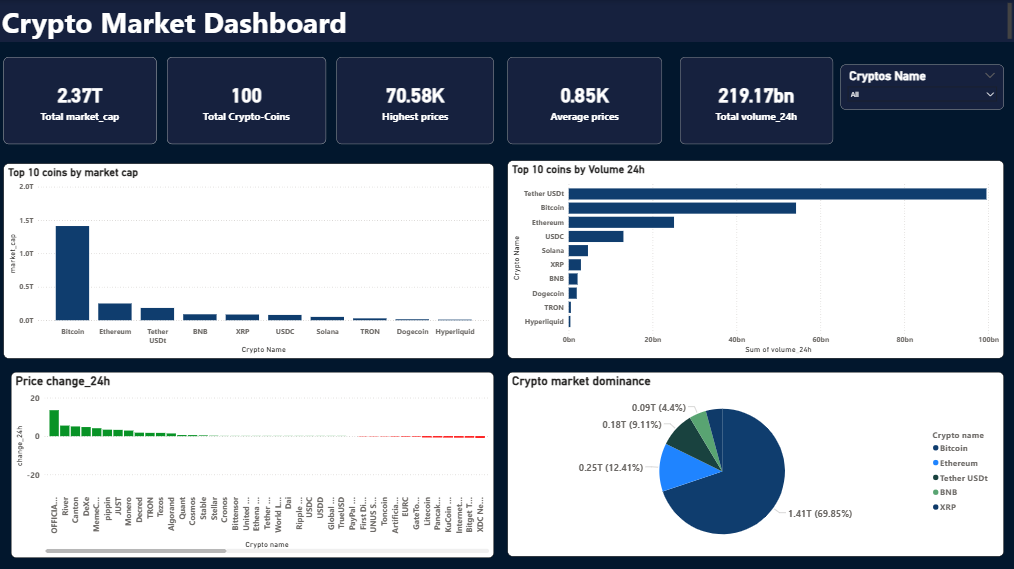

The dashboard page shown, as its layout file describes it:
{"tool":"powerbi","page":{"name":"Page 1","canvas":[1920,1080],"ordinal":0},"visuals":[{"type":"card","fields":{"Values":["Sum(crypto crypto_prices.market_cap)"]},"box":[8.5,107.7,289.1,164.4],"z":0},{"type":"card","fields":{"Values":["crypto crypto_prices.Total Crypto-Coins"]},"box":[317.5,107.7,300.5,164.4],"z":1000},{"type":"card","fields":{"Values":["Max(crypto crypto_prices.price)"]},"box":[637.8,107.7,297.6,164.4],"z":2000},{"type":"card","fields":{"Values":["Sum(crypto crypto_prices.volume_24h)"]},"box":[1286.9,107.7,289.1,164.4],"z":3000},{"type":"card","fields":{"Values":["Avg(crypto crypto_prices.price)"]},"box":[961,107.7,292,164.4],"z":4000},{"type":"slicer","fields":{"Values":["crypto crypto_prices.name"]},"box":[1590.2,121.9,309,85],"z":5000},{"type":"columnChart","title":"Top 10 coins by market cap","fields":{"Category":["crypto crypto_prices.name"],"Y":["Sum(crypto crypto_prices.market_cap)"]},"box":[8.5,309,926.9,368.5],"z":6000},{"type":"clusteredBarChart","title":"Top 10 coins by Volume 24h","fields":{"Category":["crypto crypto_prices.name"],"Y":["Sum(crypto crypto_prices.volume_24h)"]},"box":[961,303.3,938.3,374.2],"z":7000},{"type":"clusteredColumnChart","title":"Price change_24h ","fields":{"Category":["crypto crypto_prices.name"],"Y":["Sum(crypto crypto_prices.change_24h)"]},"box":[22.7,703,912.8,351.5],"z":8000},{"type":"pieChart","title":"Crypto market dominance","fields":{"Category":["crypto crypto_prices.name"],"Y":["Sum(crypto crypto_prices.market_cap)"]},"box":[961,703,938.3,348.7],"z":9000},{"type":"textbox","box":[0,0,1919.1,79.4],"z":9001}]}

Visuals, with their boxes in screenshot pixels (x1, y1, x2, y2), scaled from the page's 1920x1080 canvas onto the 1014x569 screenshot:
card - Sum(crypto crypto_prices.market_cap): region(4, 57, 157, 143)
card - crypto crypto_prices.Total Crypto-Coins: region(168, 57, 326, 143)
card - Max(crypto crypto_prices.price): region(337, 57, 494, 143)
card - Sum(crypto crypto_prices.volume_24h): region(680, 57, 832, 143)
card - Avg(crypto crypto_prices.price): region(508, 57, 662, 143)
slicer - crypto crypto_prices.name: region(840, 64, 1003, 109)
"Top 10 coins by market cap" columnChart: region(4, 163, 494, 357)
"Top 10 coins by Volume 24h" clusteredBarChart: region(508, 160, 1003, 357)
"Price change_24h " clusteredColumnChart: region(12, 370, 494, 556)
"Crypto market dominance" pieChart: region(508, 370, 1003, 554)
textbox: region(0, 0, 1013, 42)
